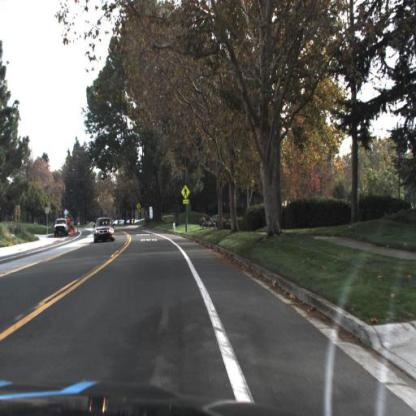car: (93, 218, 118, 241), (53, 218, 70, 239)
